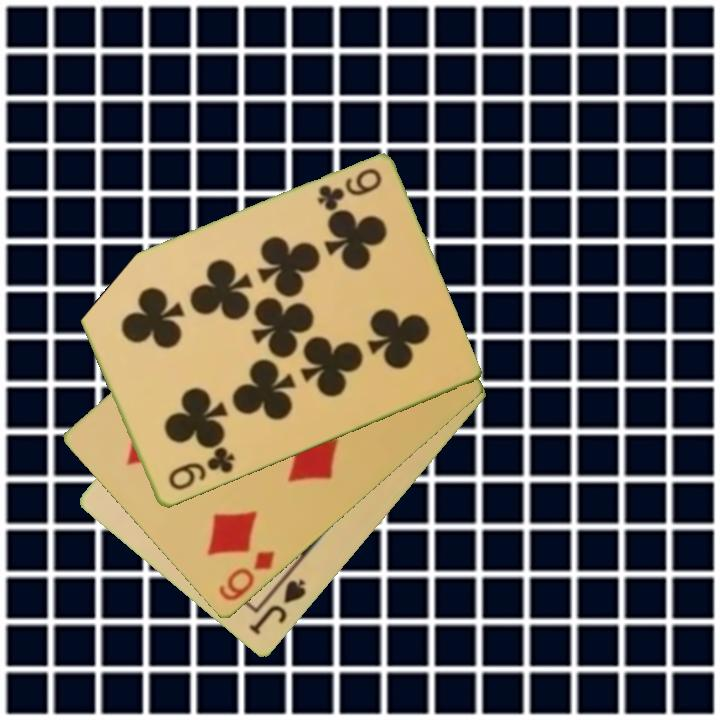6d: (215, 547, 278, 605)
9c: (164, 444, 238, 494), (313, 165, 385, 215)
Js: (244, 576, 309, 639)
